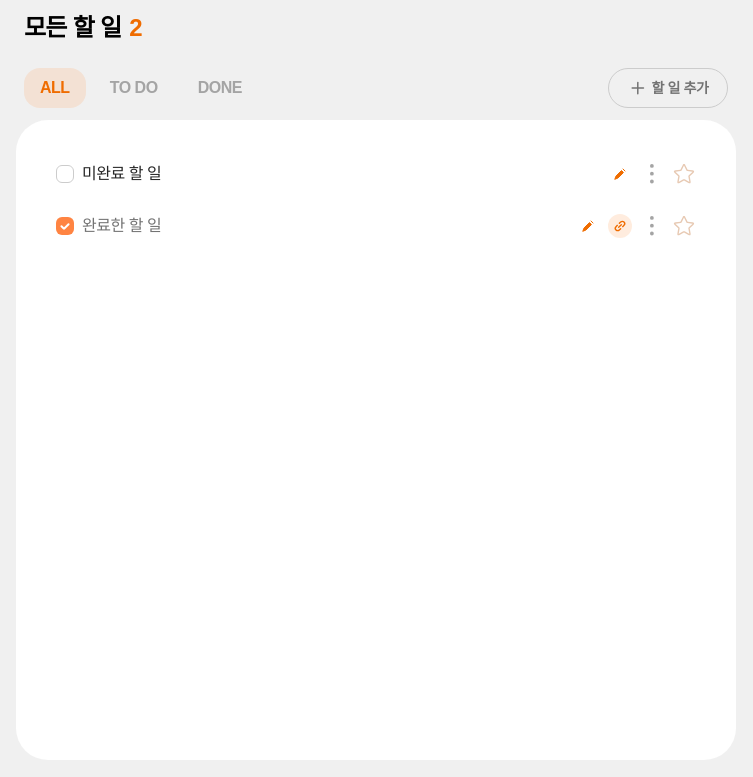
Test: TodosView › 빈 상태는 탭별 조회 결과로 판단한다
The width and height of the screenshot is (753, 777).
Check: the button "미완료 할 일" is shown, box top-left (82, 162), bottom-right (600, 186)
Check: the text "아직 등록한 할 일이 없어요" is not shown
What coordinates should you click on to do the following:
click the tab "DONE"
I would click on:
 (220, 88)
Its box is top-left (182, 68), bottom-right (258, 108).
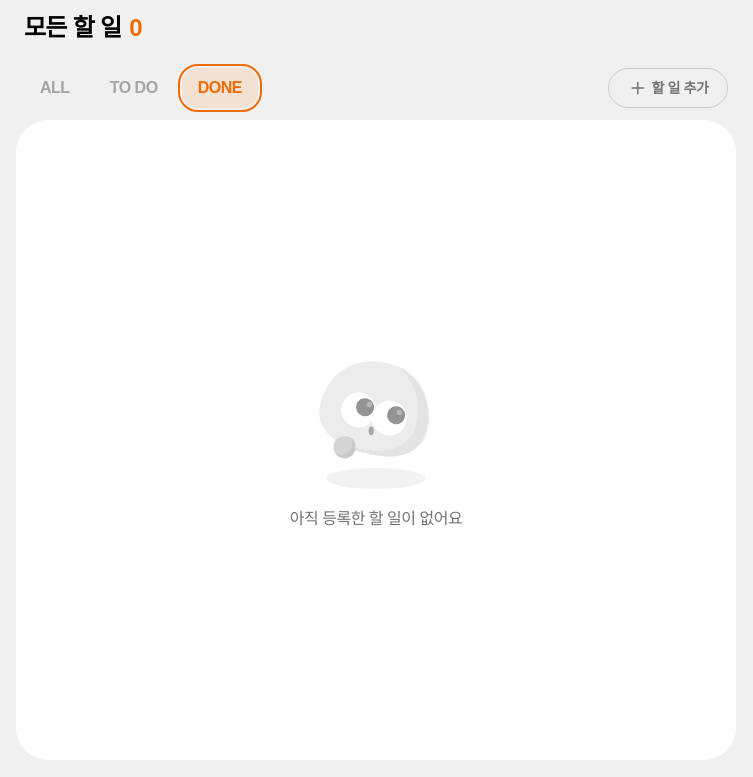
Check: the text "아직 등록한 할 일이 없어요" is shown, box top-left (290, 507), bottom-right (462, 531)
Check: the heading "모든 할 일 0" is shown, box top-left (24, 14), bottom-right (142, 41)
